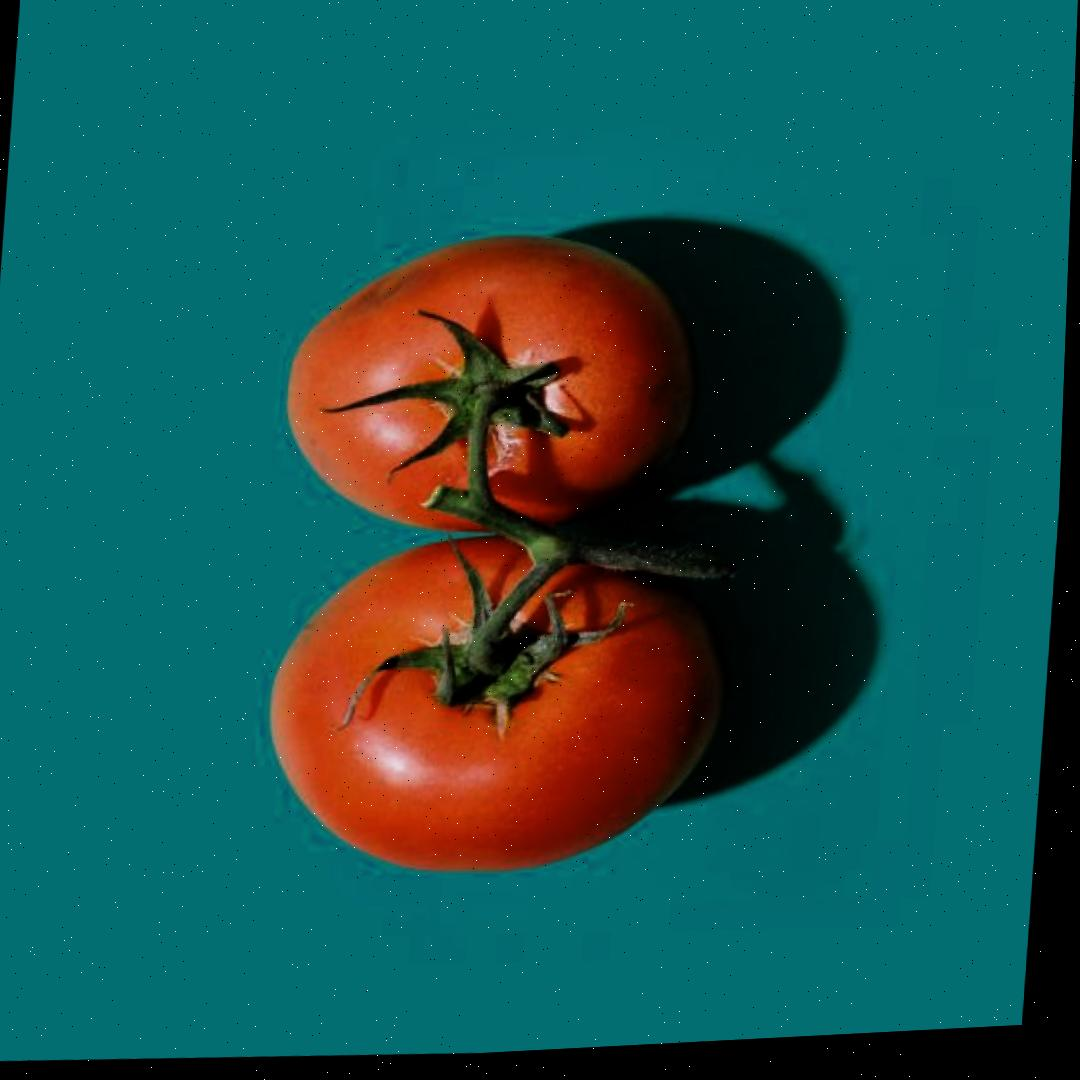matang: (254, 514, 740, 893), (272, 216, 713, 551)
